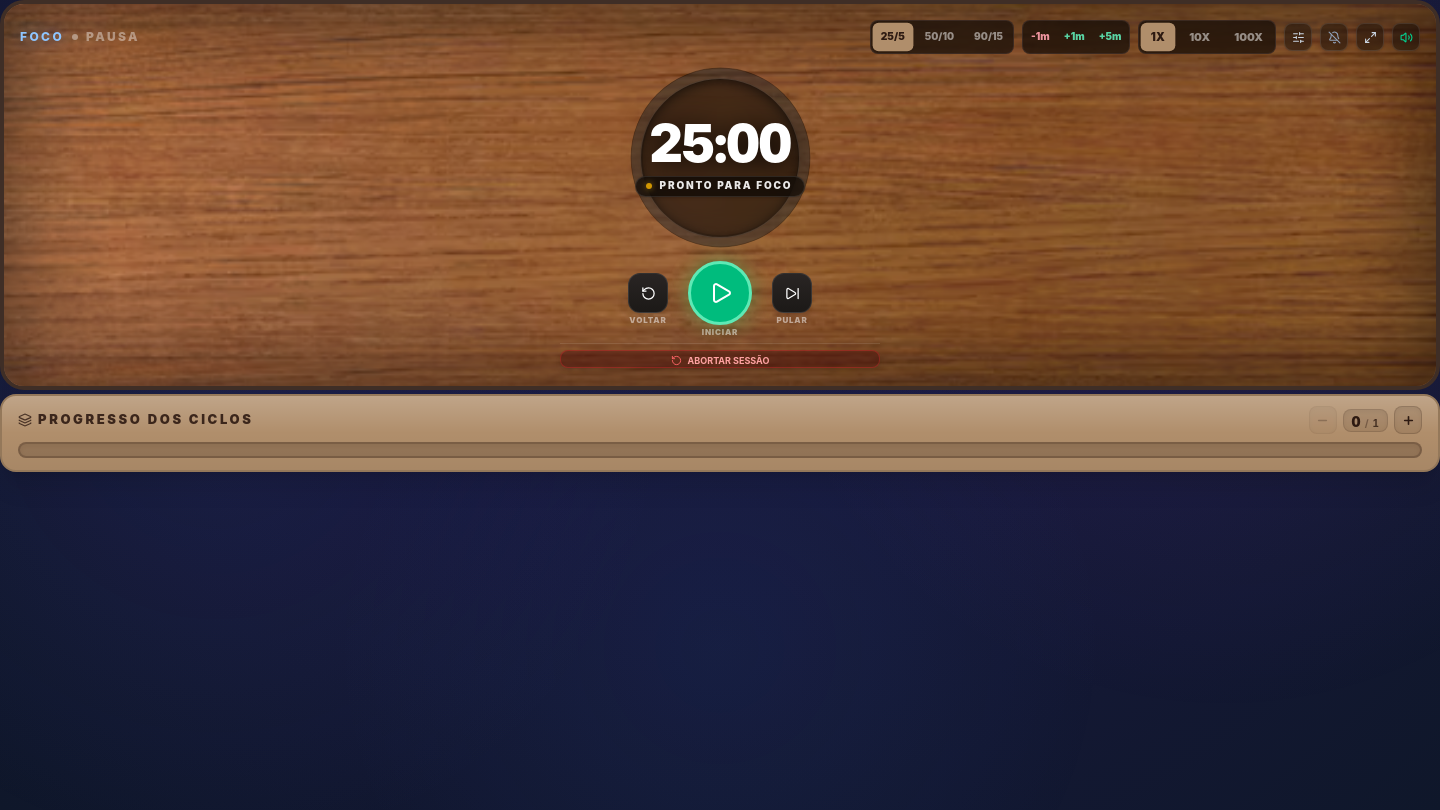
Test: Cronômetro / Pomodoro Menu — 2026 Audit Bugfixes & Improvements › 5. Fullscreen Zen Mode portals to document.body, locks scroll, shows topic banner, and exits on Escape
The width and height of the screenshot is (1440, 810).
Later steps or results of the test are not shown.
Click the button titled "Modo Zen" at (1370, 37), box [1356,23,1384,51]
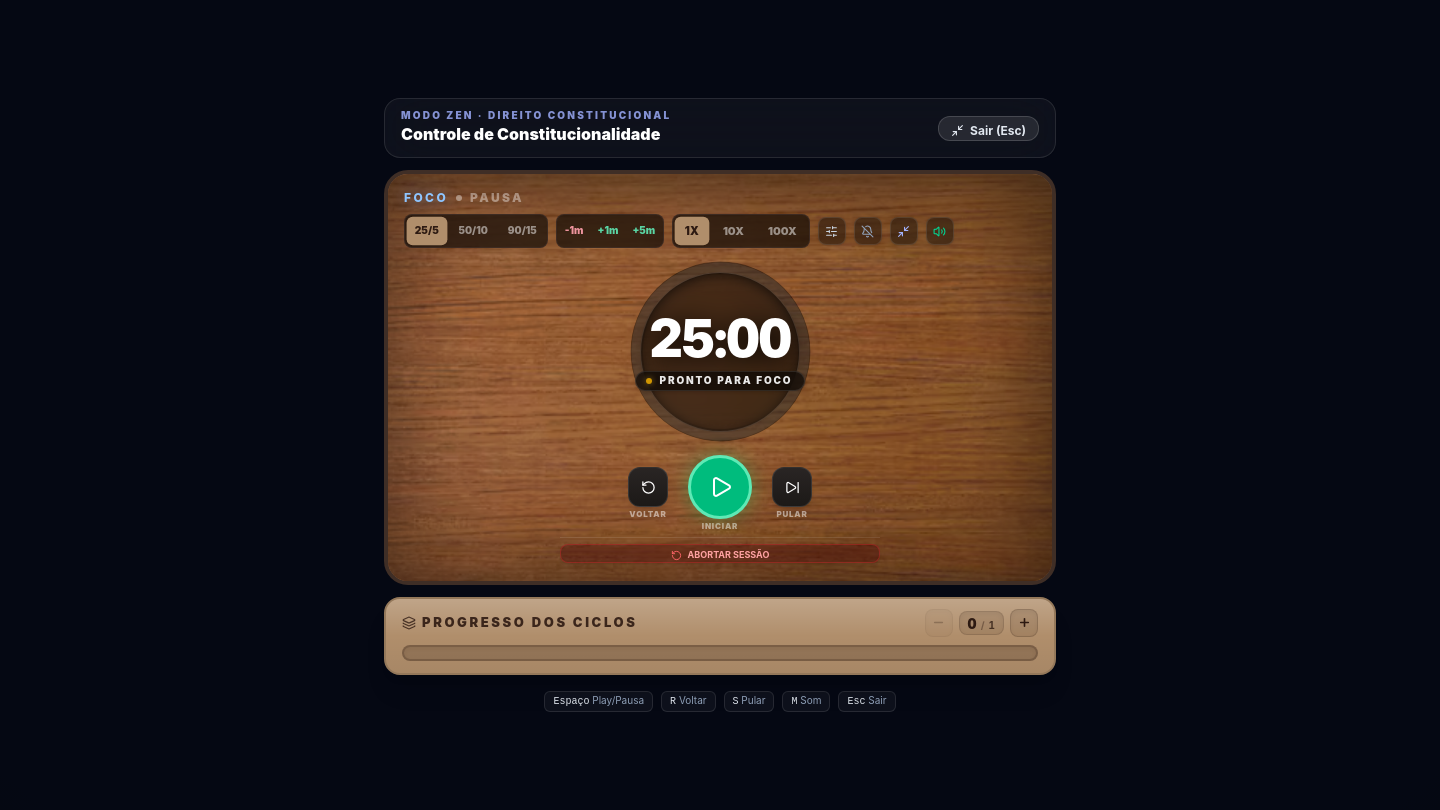
Now the element named "Cronômetro em Modo Zen" is shown
Now the element named "Cronômetro em Modo Zen" shows "Modo Zen", box [401,109,488,121]
Now the element named "Cronômetro em Modo Zen" shows "Controle de Constitucionalidade", box [401,124,660,144]
